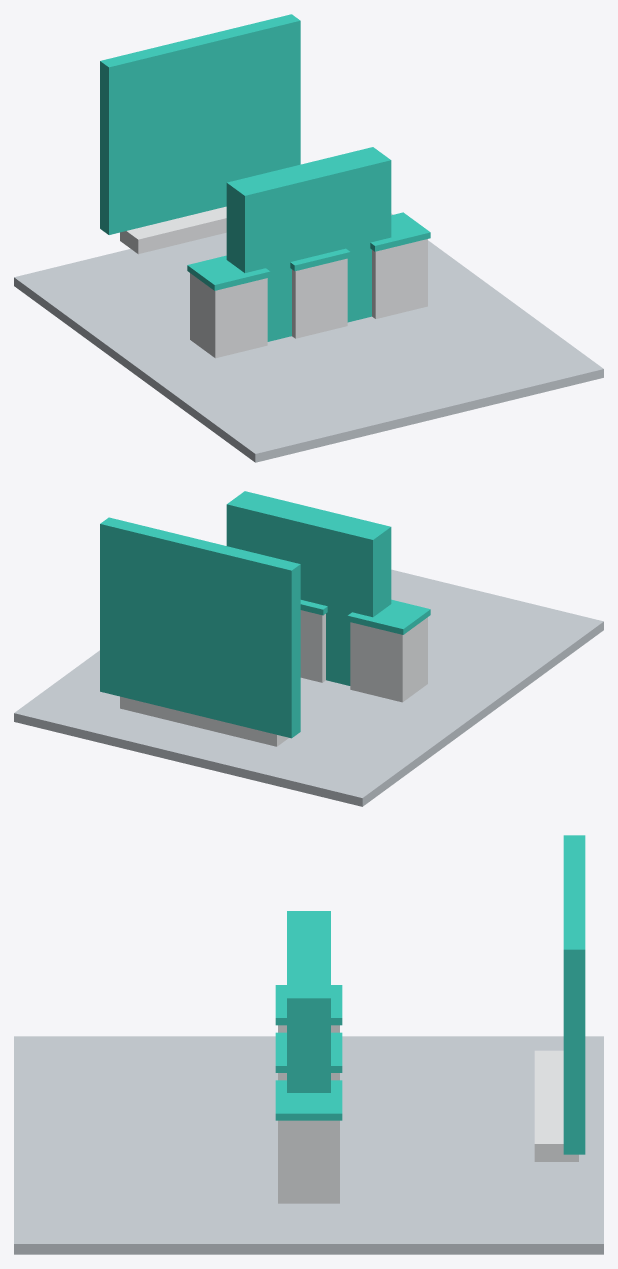
The picture shows the model from 3 angles, top to bottom: view 1: azimuth 30°, elevation 25°; view 2: azimuth 150°, elevation 25°; view 3: azimuth 270°, elevation 25°; orthographic projection. The views are drawn at different scales.
Visible parts, largest first — view 1: Exhibition Booth Concept; view 2: Exhibition Booth Concept; view 3: Exhibition Booth Concept.
Boxes of the visible parts, x1,y1,x2,y2 form: Exhibition Booth Concept: [14, 14, 603, 462]; Exhibition Booth Concept: [14, 491, 603, 806]; Exhibition Booth Concept: [14, 835, 603, 1254].
Bounding box in the file's own units: 5 × 2.9 × 6.
